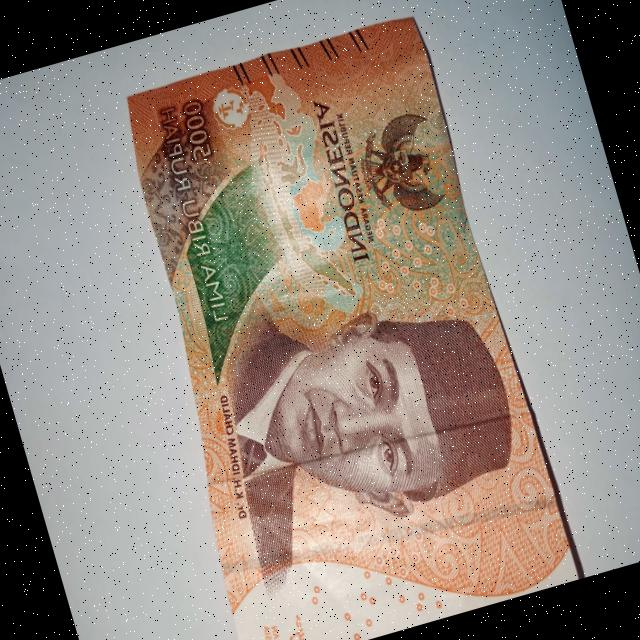5K: (62, 1, 591, 640)
